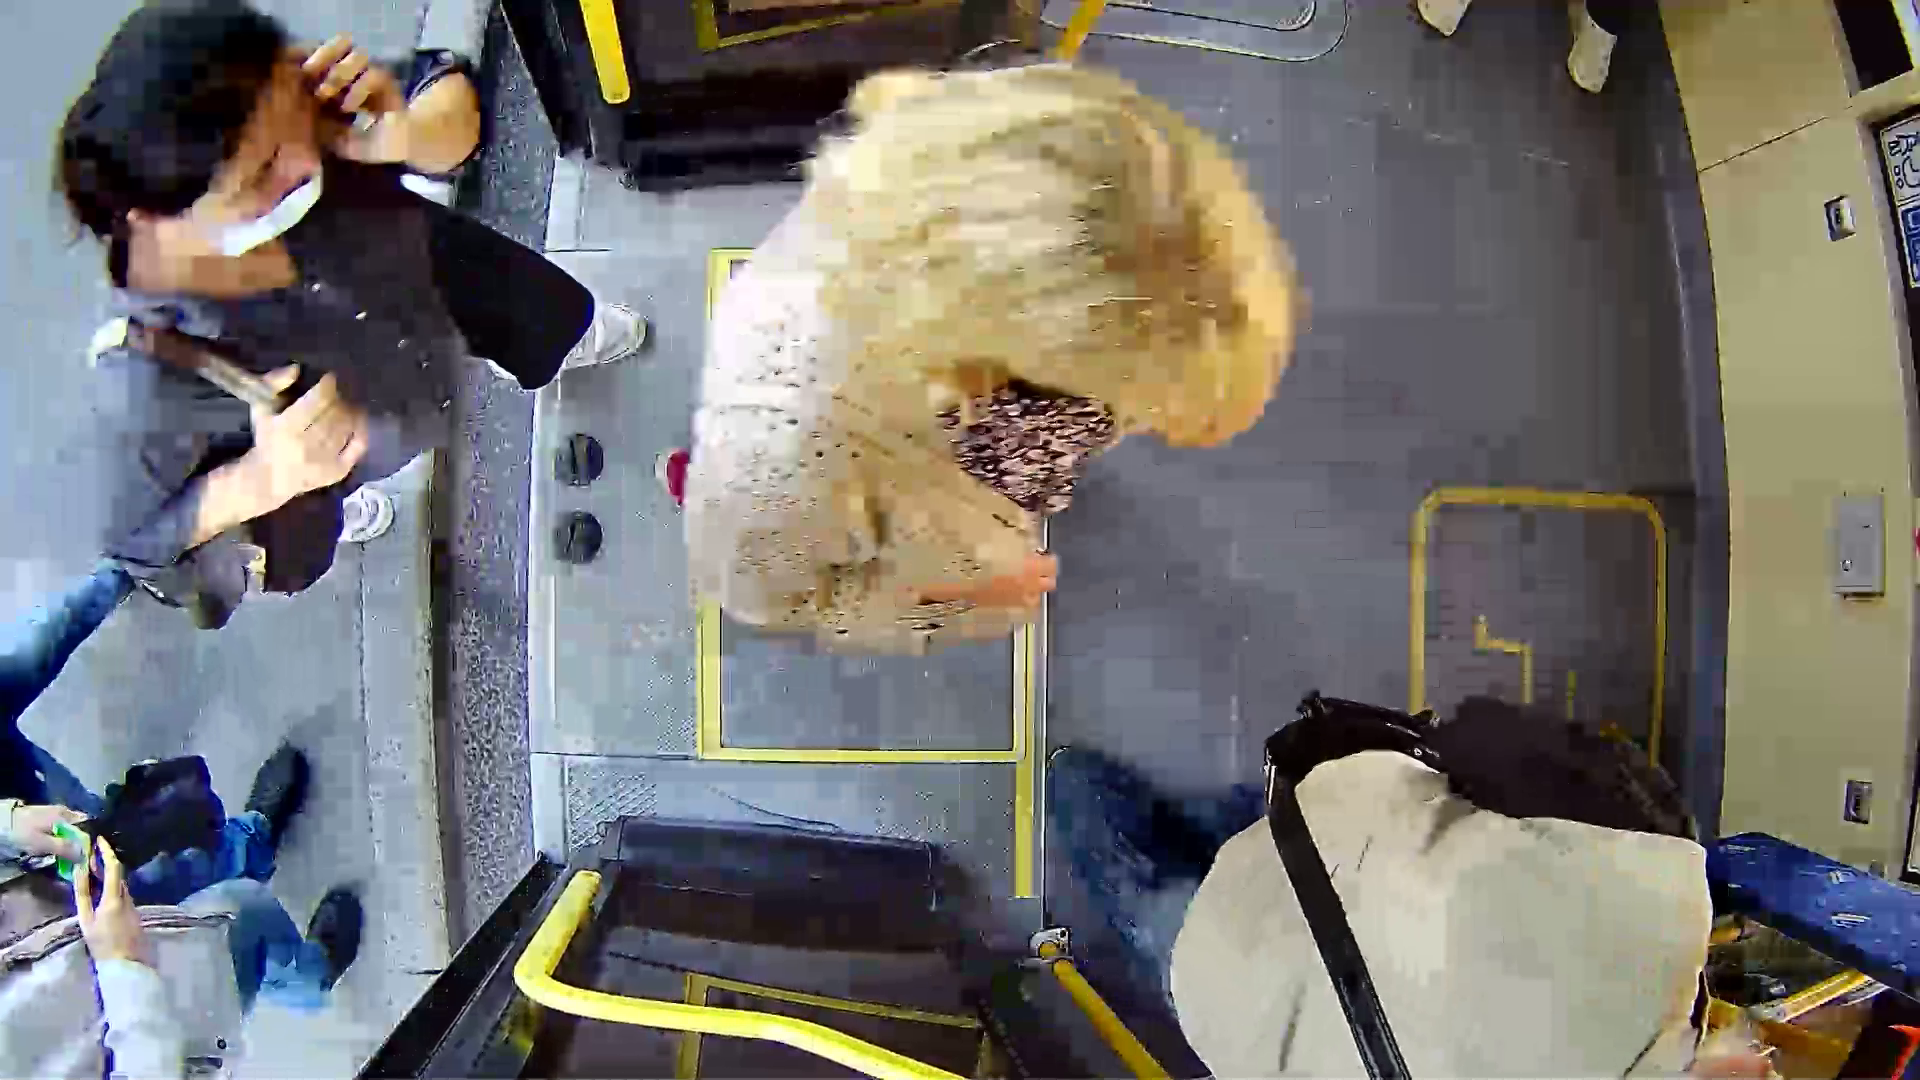person: (684, 35, 1351, 709), (68, 9, 680, 587)
